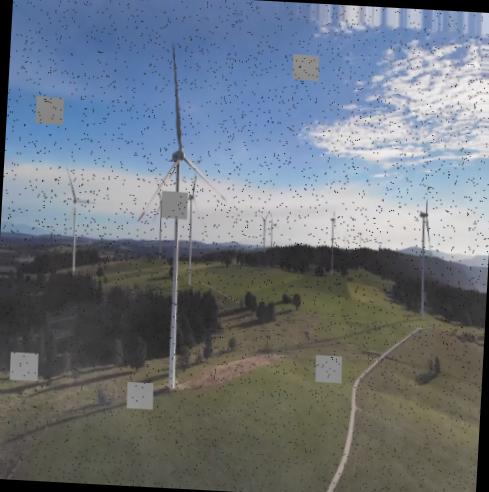wind turbine: (139, 44, 220, 387), (61, 169, 96, 283), (417, 198, 434, 313)
